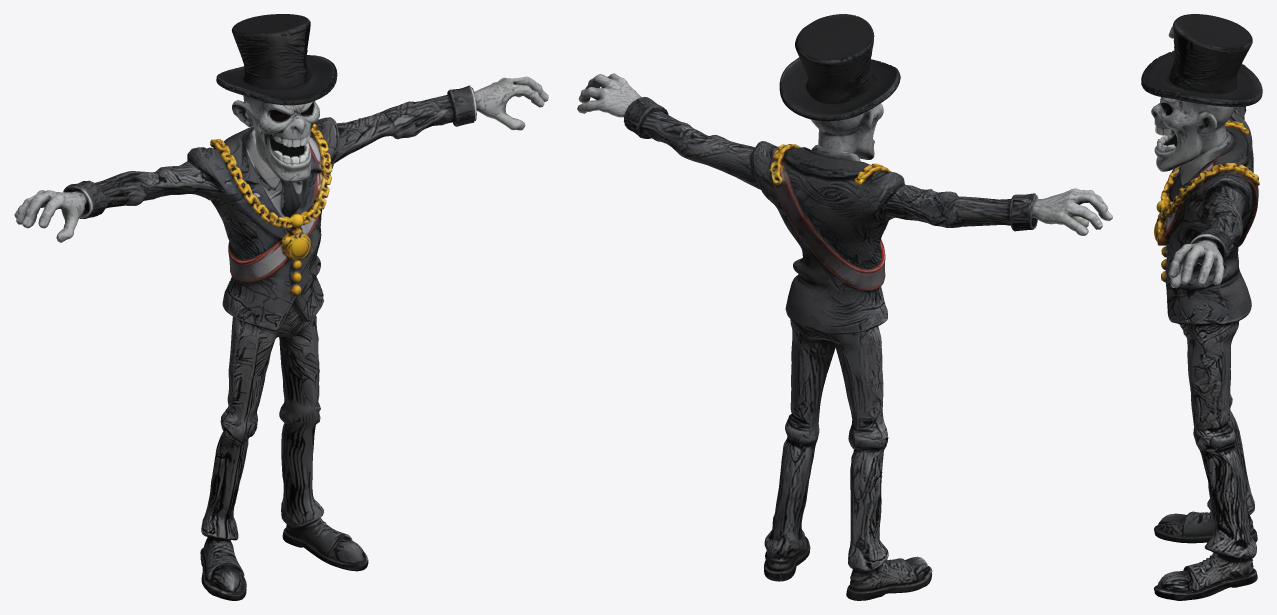
Rendered from mayor_eternal.glb.
The picture shows the model from 3 angles, left to right: view 1: azimuth 30°, elevation 25°; view 2: azimuth 150°, elevation 25°; view 3: azimuth 270°, elevation 25°; orthographic projection.
Parts seen in each view (by area): view 1: mayor_eternal; view 2: mayor_eternal; view 3: mayor_eternal.
Boxes of the visible parts, x1,y1,x2,y2 form: mayor_eternal: [14, 14, 548, 600]; mayor_eternal: [577, 14, 1112, 600]; mayor_eternal: [1141, 14, 1262, 600].
Bounding box in the file's own units: 3.01 × 3 × 0.6103.
1 material, 1 textured.
